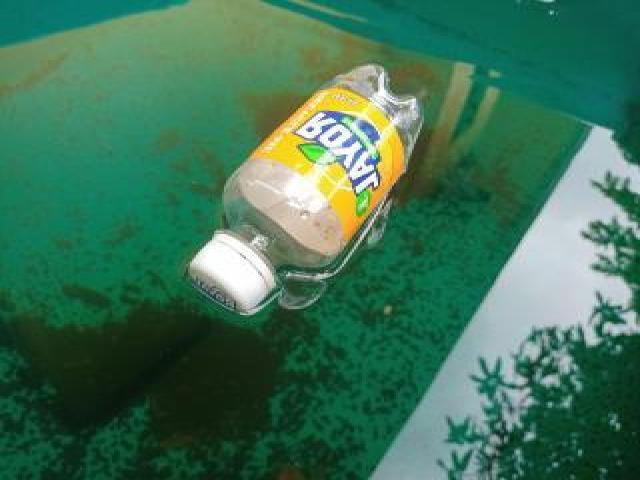Bottle: (180, 58, 433, 319)
